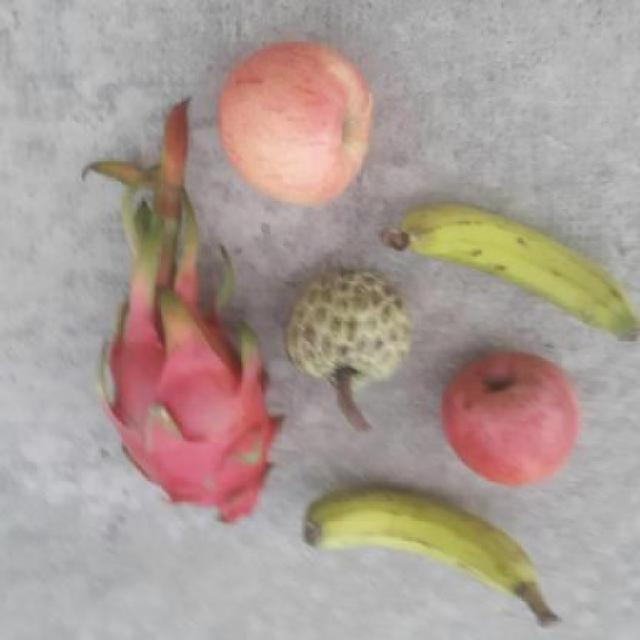apple: (441, 352, 587, 490)
banana: (299, 482, 556, 629), (388, 205, 640, 342)
dragon fruit: (87, 280, 290, 528)
sugar apple: (280, 268, 414, 397)
